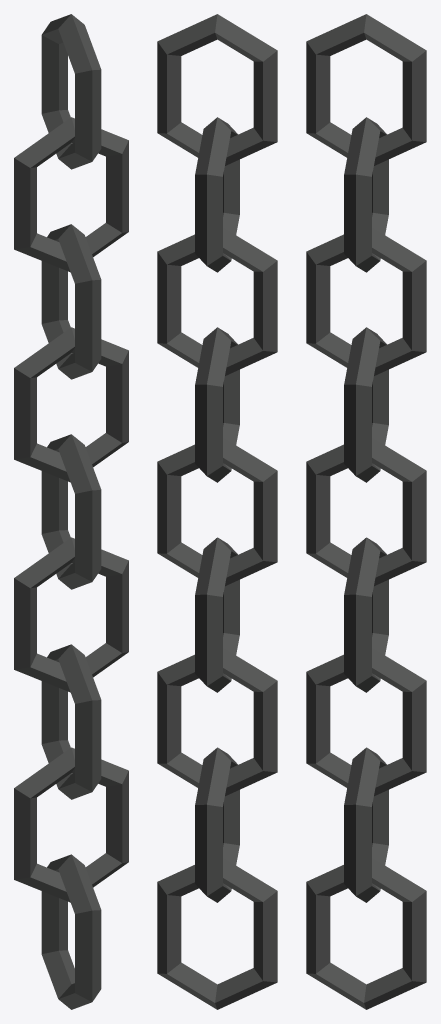
File: Chain_002_Variant.fbx
The picture shows the model from 3 angles, left to right: view 1: azimuth 90°, elevation 25°; view 2: azimuth 150°, elevation 25°; view 3: azimuth 330°, elevation 25°; orthographic projection.
Visible parts, largest first — view 1: Chain_002_Variant; view 2: Chain_002_Variant; view 3: Chain_002_Variant.
Part boxes in pixels (x1,y1,x2,y2): Chain_002_Variant: (14,14,128,1009); Chain_002_Variant: (157,14,277,1009); Chain_002_Variant: (306,14,426,1009).
Size of the model in its own units: 0.1697 by 1.62 by 0.1697.
